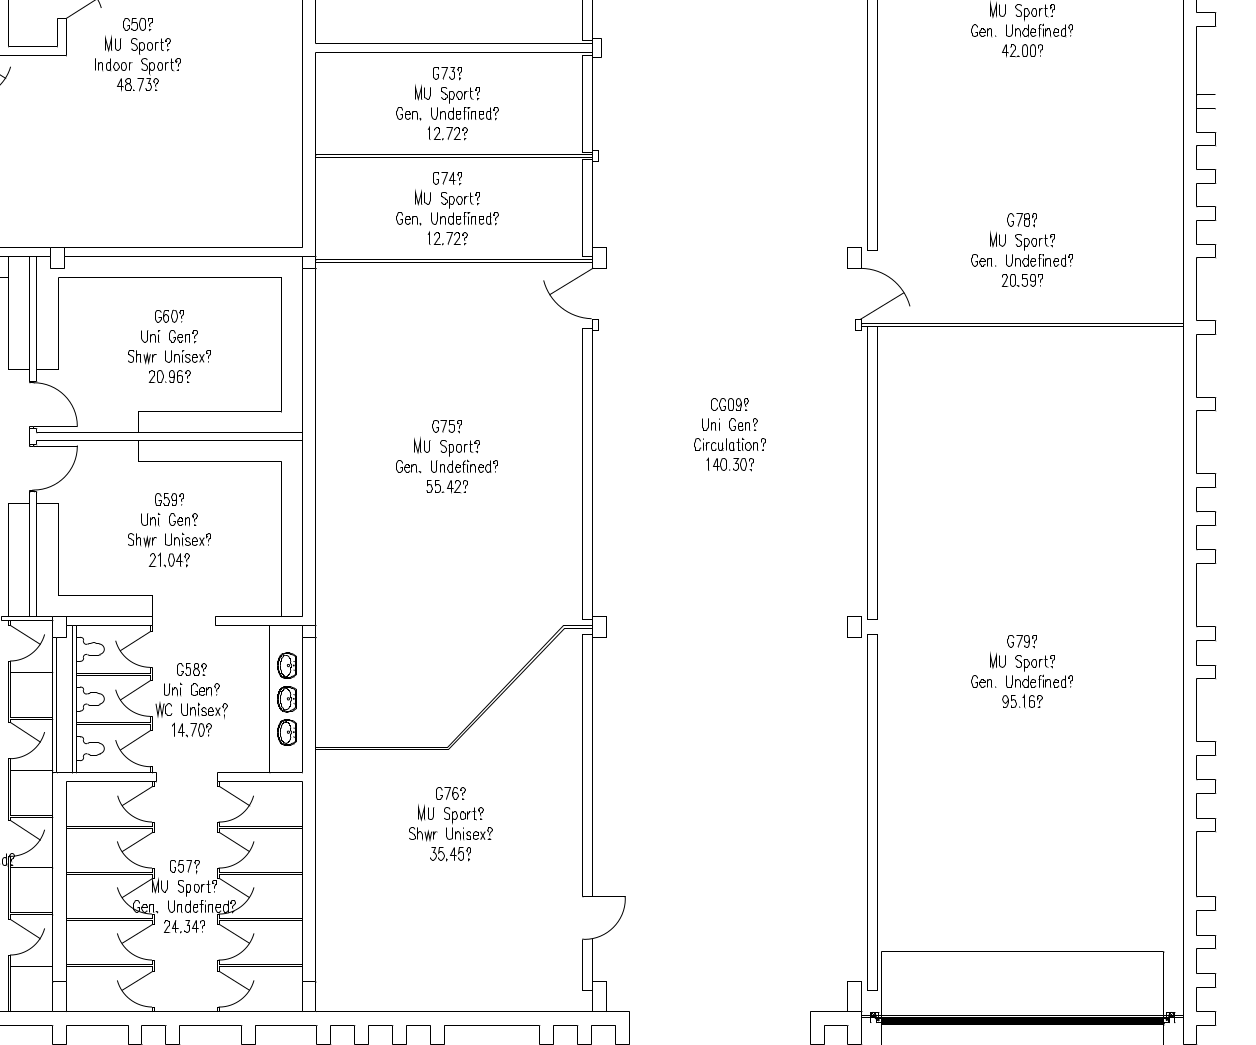door: (862, 259, 915, 317), (539, 266, 591, 324), (37, 380, 89, 429), (35, 443, 87, 492), (594, 885, 635, 944)
